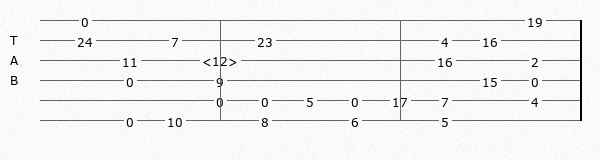0: (81, 14, 93, 27), (126, 74, 138, 87), (126, 114, 138, 127), (216, 94, 228, 107), (261, 94, 273, 107), (351, 94, 363, 107), (531, 74, 543, 87)
10: (167, 114, 187, 127)
11: (122, 54, 142, 67)
15: (482, 74, 502, 87)
16: (437, 54, 457, 67), (482, 34, 502, 47)
17: (392, 94, 412, 107)
19: (527, 14, 547, 27)
2: (531, 54, 543, 67)
23: (257, 34, 277, 47)
24: (77, 34, 97, 47)
4: (441, 34, 453, 47), (531, 94, 543, 107)
5: (306, 94, 318, 107), (441, 114, 453, 127)
6: (351, 114, 363, 127)
7: (171, 34, 183, 47), (441, 94, 453, 107)
8: (261, 114, 273, 127)
9: (216, 74, 228, 87)
harmonic: (202, 53, 242, 67)
